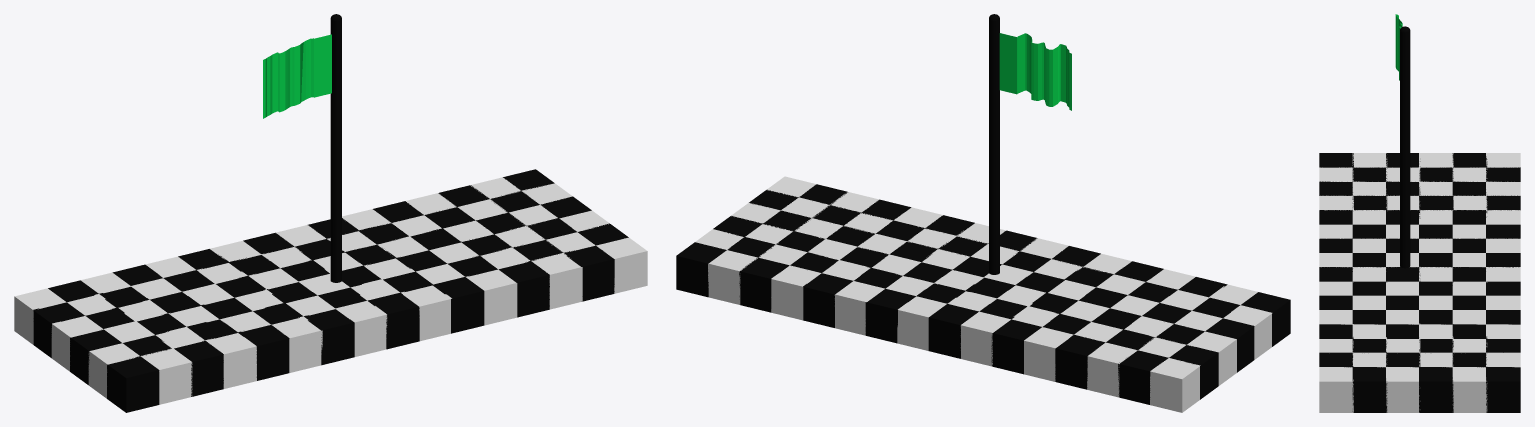
The model's file is LineadeMeta.fbx.
The picture shows the model from 3 angles, left to right: view 1: azimuth 30°, elevation 25°; view 2: azimuth 150°, elevation 25°; view 3: azimuth 270°, elevation 25°; orthographic projection. The views are drawn at different scales.
Parts seen in each view (by area): view 1: Plane, Cylinder, Cube, Cube.072, Cube.011, Cube.095, Cube.060, Cube.012, Cube.059, Cube.083, Cube.024, Cube.035 (+81 smaller); view 2: Plane, Cylinder, Cube.005, Cube.053, Cube.030, Cube.065, Cube.017, Cube.018, Cube.066, Cube.054, Cube.089, Cube.029 (+81 smaller); view 3: Cylinder, Cube.065, Cube.060, Cube.062, Cube.061, Cube.064, Cube.063, Cube.066, Cube.068, Cube.067, Cube, Cube.006 (+86 smaller).
Part boxes in pixels (x1,y1,x2,y2): Plane: [263, 34, 331, 118]; Cylinder: [330, 14, 341, 282]; Cube: [107, 356, 159, 412]; Cube.072: [433, 277, 484, 333]; Cube.011: [140, 348, 192, 404]; Cube.095: [367, 292, 419, 349]; Cube.060: [596, 237, 647, 293]; Cube.012: [205, 333, 256, 388]; Cube.059: [531, 253, 582, 309]; Cube.083: [465, 269, 517, 325]; Cube.024: [304, 309, 354, 365]; Cube.035: [335, 301, 387, 356]; Plane: [999, 33, 1071, 110]; Cylinder: [989, 14, 999, 274]; Cube.005: [1150, 358, 1200, 412]; Cube.053: [771, 265, 821, 320]; Cube.030: [928, 304, 978, 358]; Cube.065: [676, 242, 726, 297]; Cube.017: [1055, 334, 1105, 389]; Cube.018: [1087, 342, 1137, 397]; Cube.066: [708, 250, 757, 304]; Cube.054: [739, 257, 789, 312]; Cube.089: [865, 288, 915, 343]; Cube.029: [960, 311, 1010, 366]; Cylinder: [1400, 26, 1410, 268]; Cube.065: [1486, 367, 1520, 412]; Cube.060: [1319, 367, 1353, 412]; Cube.062: [1419, 367, 1453, 412]; Cube.061: [1352, 367, 1387, 412]; Cube.064: [1452, 367, 1487, 412]; Cube.063: [1386, 367, 1420, 412]; Cube.066: [1486, 352, 1520, 367]; Cube.068: [1386, 352, 1420, 367]; Cube.067: [1452, 352, 1486, 367]; Cube: [1319, 153, 1353, 167]; Cube.006: [1486, 167, 1520, 181].
Size of the model in its own units: 3139 by 1733 by 1166.
